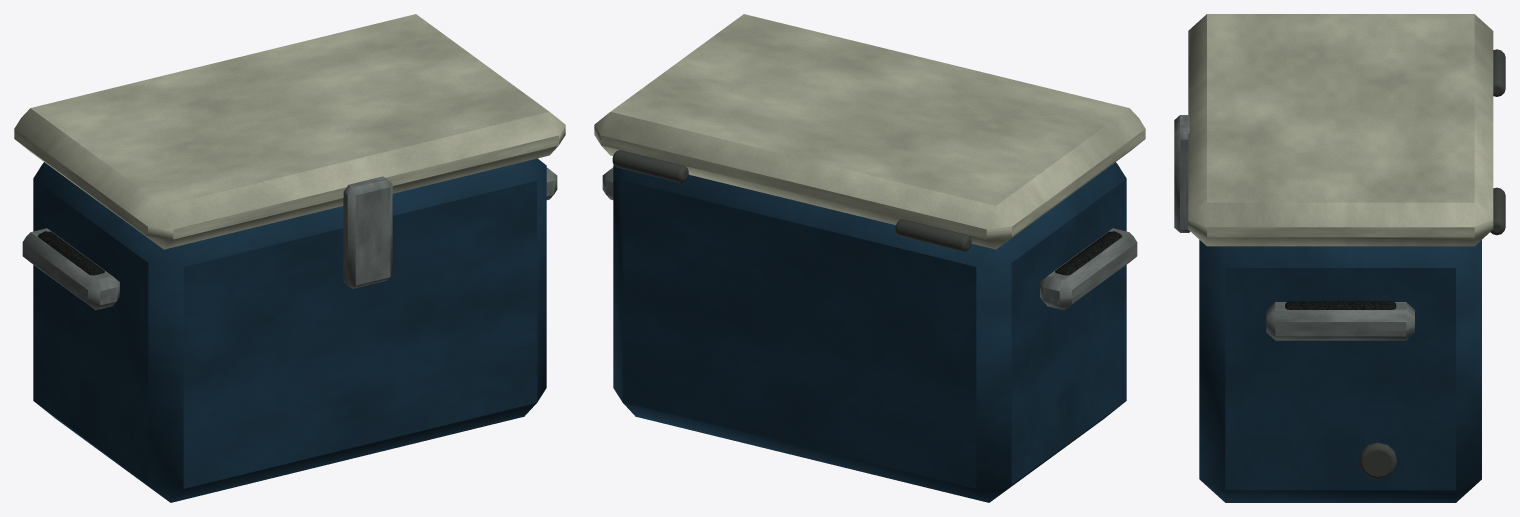
Rendered from level_camp_cooler_refined.glb.
3 views of the same model, side by side, from view 1: azimuth 30°, elevation 25°; view 2: azimuth 150°, elevation 25°; view 3: azimuth 270°, elevation 25° (orthographic).
Visible parts, largest first — view 1: level_camp_cooler_refined; view 2: level_camp_cooler_refined; view 3: level_camp_cooler_refined.
Part boxes in pixels (x1,y1,x2,y2): level_camp_cooler_refined: [14, 14, 565, 502]; level_camp_cooler_refined: [594, 14, 1145, 502]; level_camp_cooler_refined: [1174, 14, 1505, 502].
Bounding box in the file's own units: 0.73 × 0.4575 × 0.446.
Materials: 5 (5 with a texture image).
